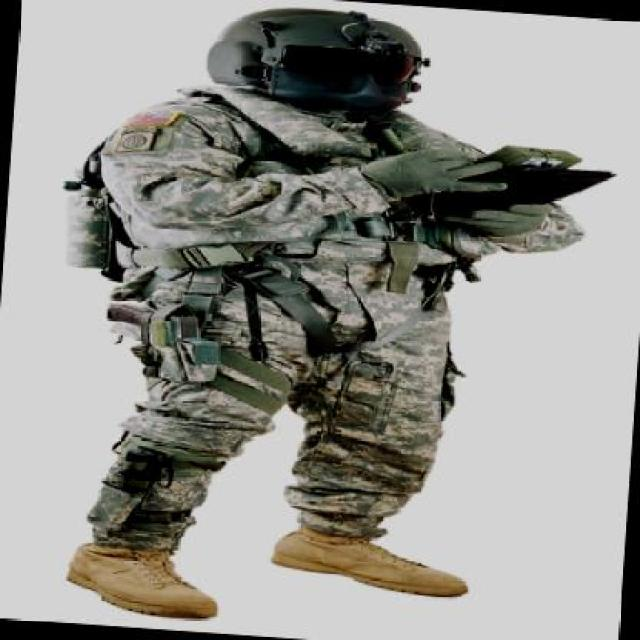MIL_Pax: (46, 0, 595, 638)
